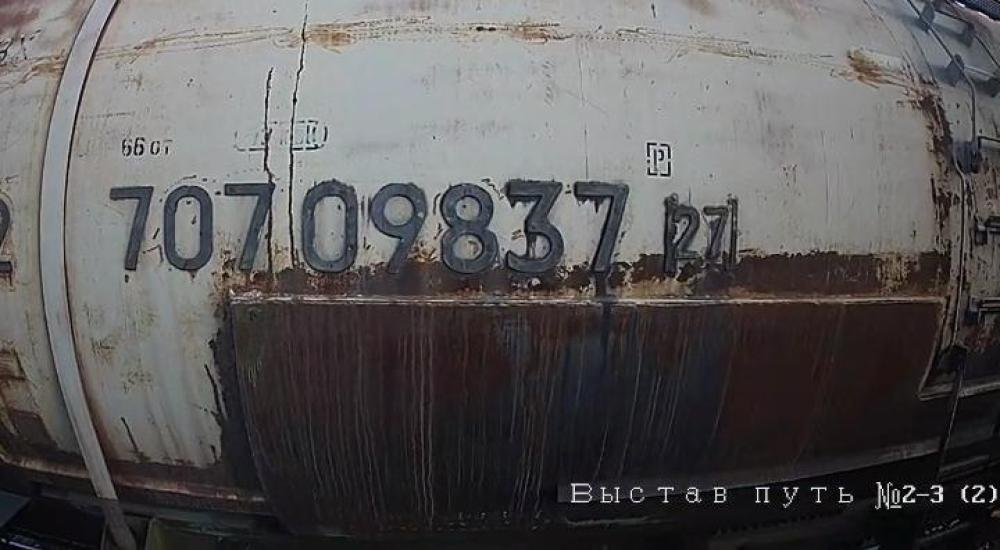Wagon-number: (105, 178, 635, 282)
